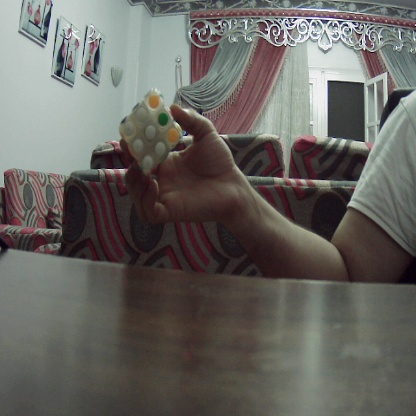Rubix Cube: (125, 90, 177, 179)
